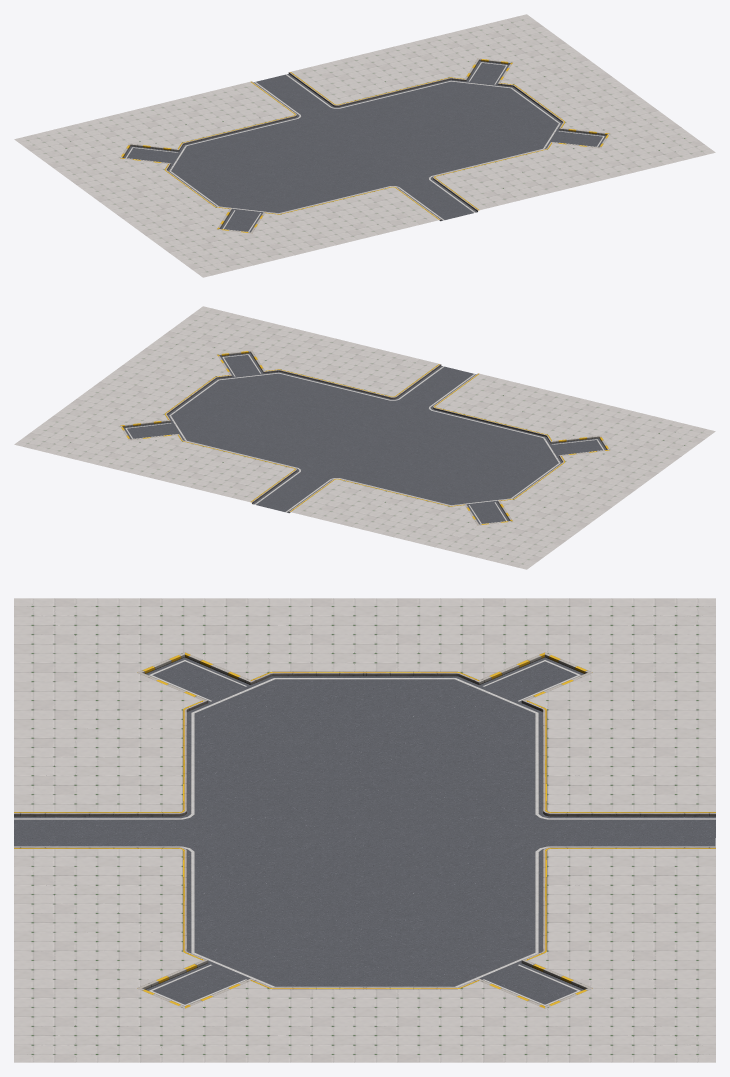
File: ModernCity_Floor.fbx
The picture shows the model from 3 angles, top to bottom: view 1: azimuth 30°, elevation 25°; view 2: azimuth 150°, elevation 25°; view 3: azimuth 270°, elevation 25°; orthographic projection. The views are drawn at different scales.
Parts seen in each view (by area): view 1: Object001, Line007, Line006, Line008; view 2: Object001, Line007, Line006, Line008; view 3: Object001, Line007, Line006, Line008.
Boxes of the visible parts, x1,y1,x2,y2 form: Object001: [14, 14, 715, 277]; Line007: [123, 61, 606, 232]; Line006: [120, 58, 609, 233]; Line008: [125, 62, 604, 232]; Object001: [14, 306, 715, 569]; Line007: [123, 353, 606, 524]; Line006: [120, 350, 609, 525]; Line008: [125, 354, 604, 524]; Object001: [14, 598, 715, 1062]; Line007: [14, 657, 715, 1004]; Line006: [14, 652, 715, 1008]; Line008: [14, 660, 715, 1005].
Size of the model in its own units: 74.02 by 0.2 by 47.28.
